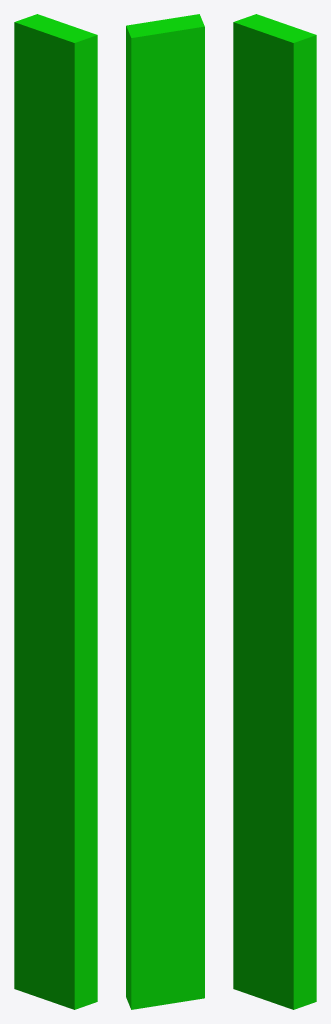
The picture shows the model from 3 angles, left to right: view 1: azimuth 90°, elevation 25°; view 2: azimuth 150°, elevation 25°; view 3: azimuth 270°, elevation 25°; orthographic projection.
Parts seen in each view (by area): view 1: Plane.030; view 2: Plane.030; view 3: Plane.030.
Boxes of the visible parts, bbox=[...] form: Plane.030: bbox=[14, 14, 97, 1009]; Plane.030: bbox=[126, 14, 204, 1009]; Plane.030: bbox=[233, 14, 316, 1009].
Size of the model in its own units: 270 by 4180 by 326.
